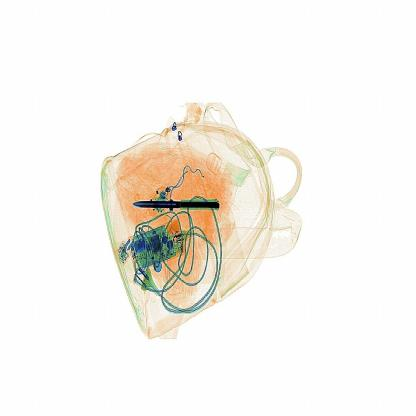gun: (134, 187, 225, 214)
